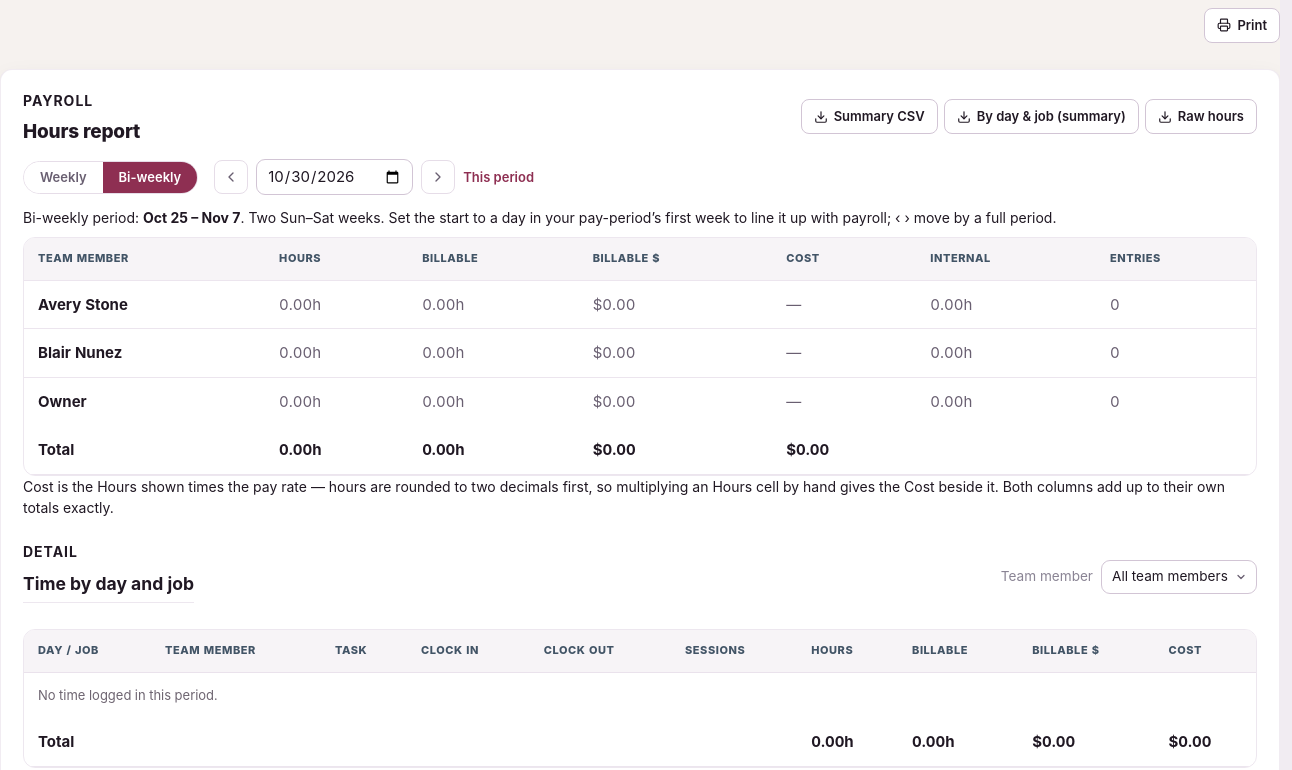
payroll Cost column reconciles by hand › is the Hours cell times the pay rate, on every row
The width and height of the screenshot is (1292, 770).
Step 1. Type "2026-08-05" into the date field named "Period start date" → (335, 177), box [256,159,413,195]
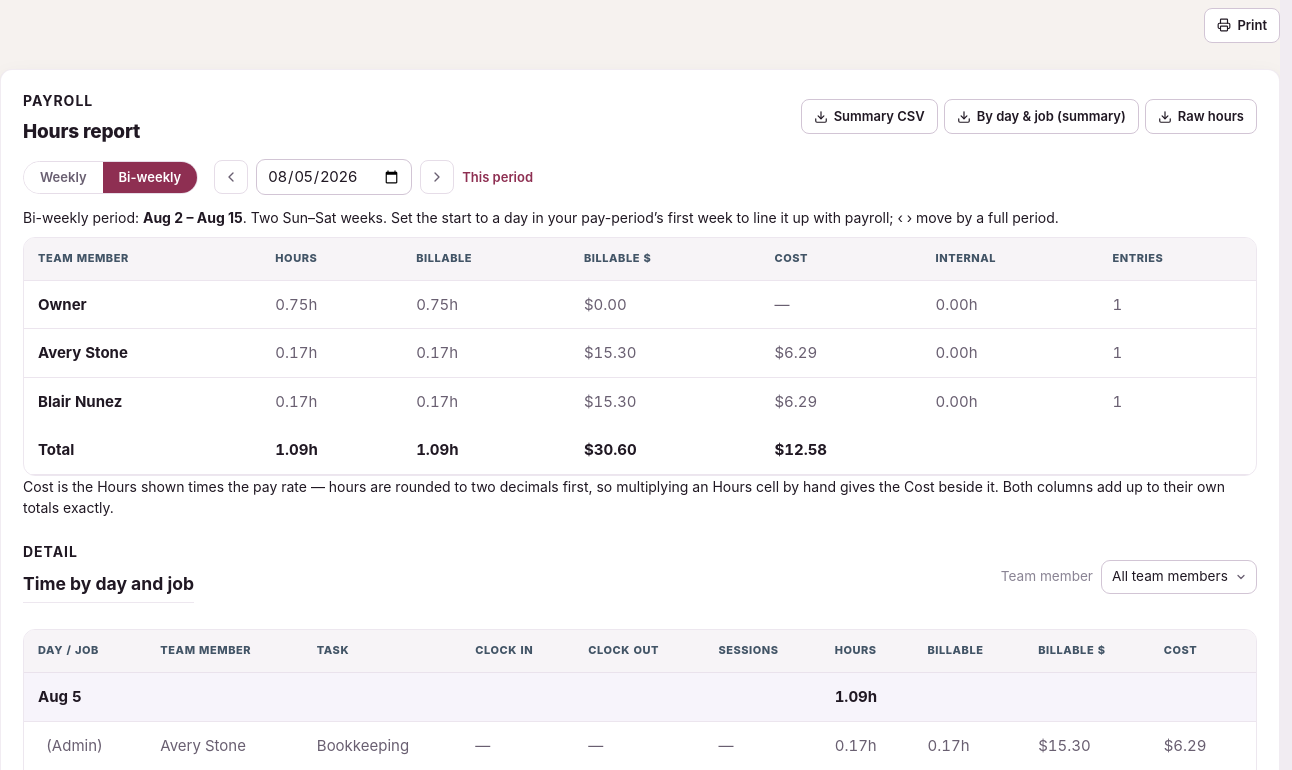
Result: the 1st cell "0.17h" is shown at [261,329,402,378]
